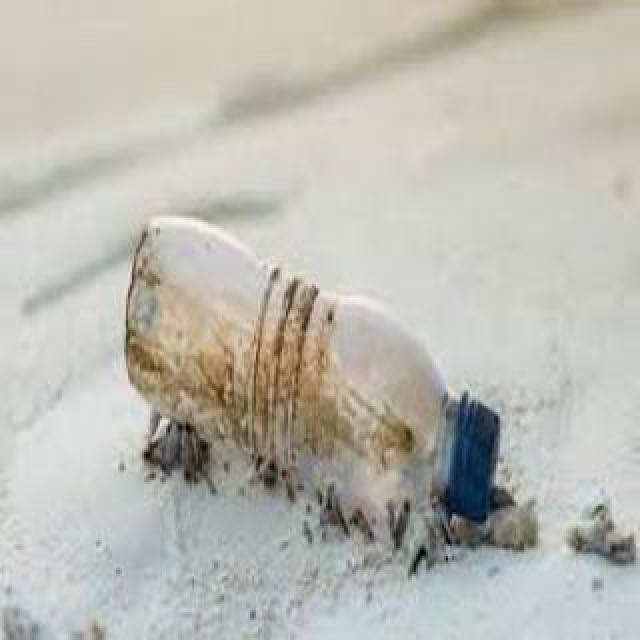Pet_Bottle: (123, 212, 501, 540)
